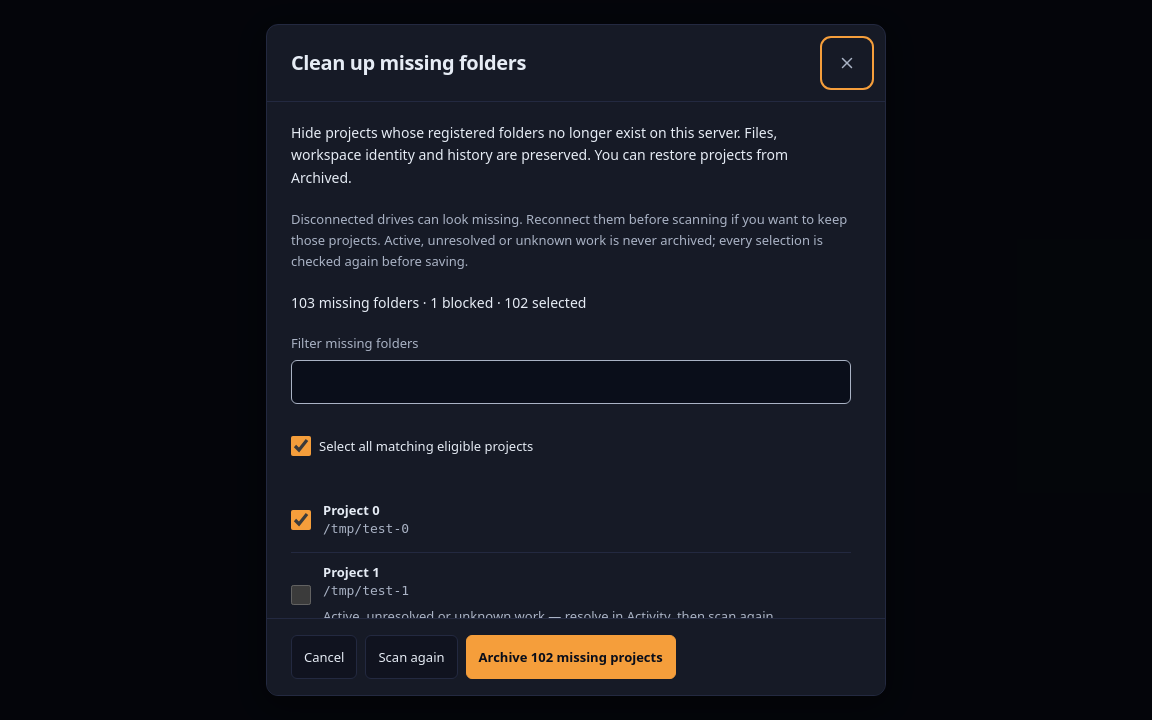
Test: scans and archives in bounded batches and paginates the review list
The width and height of the screenshot is (1152, 720).
Click the button "Archive 102 missing projects" at x=571, y=657, box left=466, top=635, right=676, bottom=679
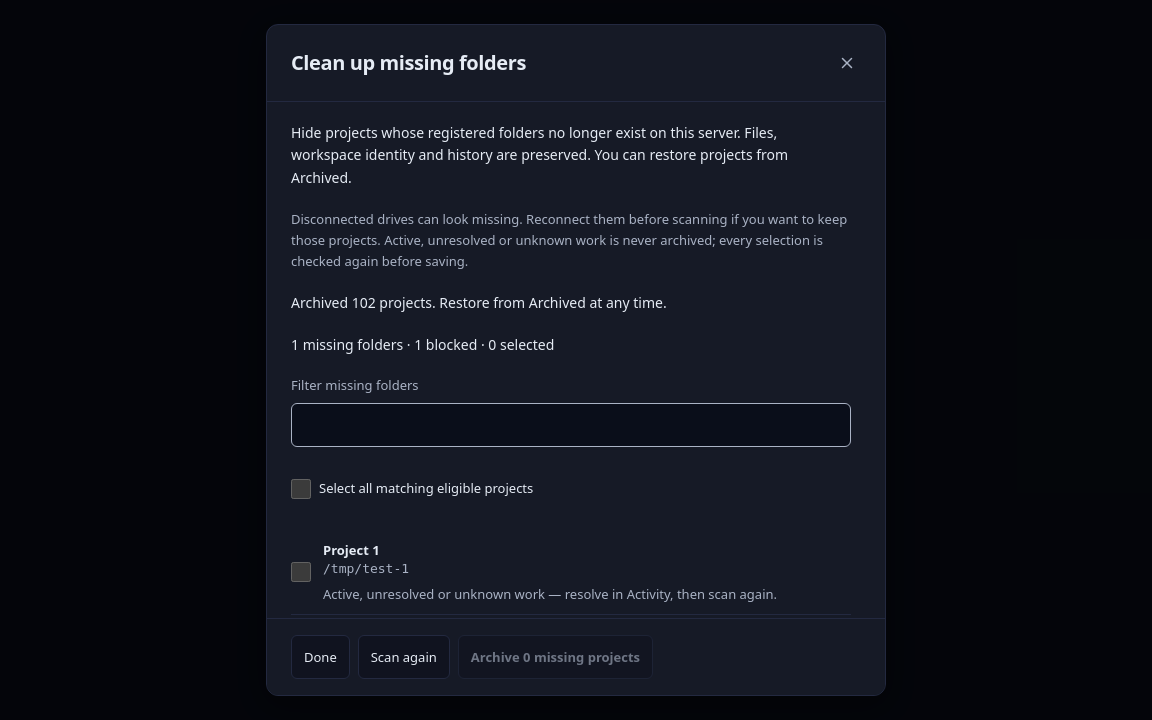
Check: the text "Archived 102 projects. Restore from Archived at any time." is shown, box left=291, top=293, right=667, bottom=312
